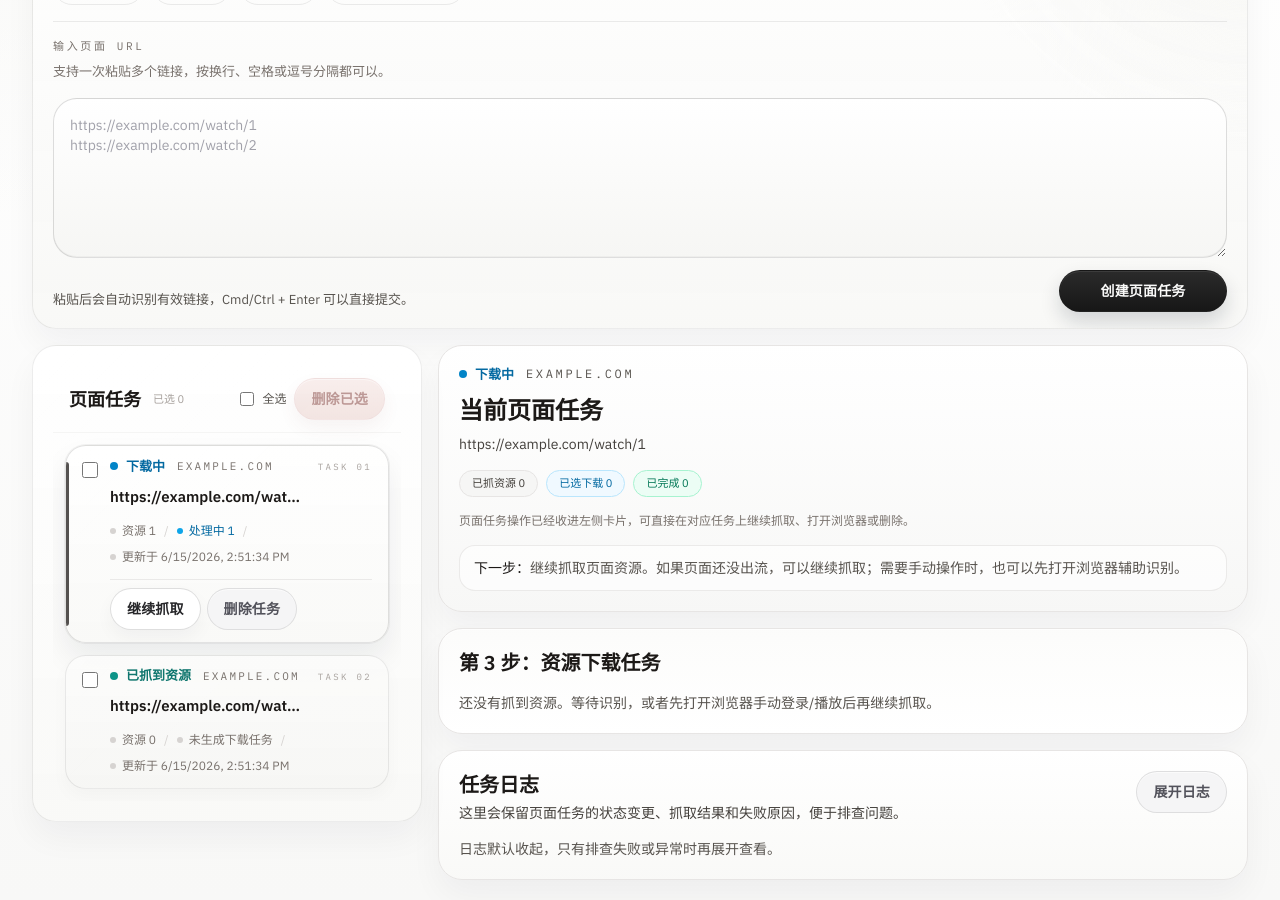
Test case: App › keeps updating download center progress after switching to another page task
(page scrolled)
Click the text "https://example.com/watch/2". click: (208, 706)
box: [110,694,306,718]
(page scrolled)
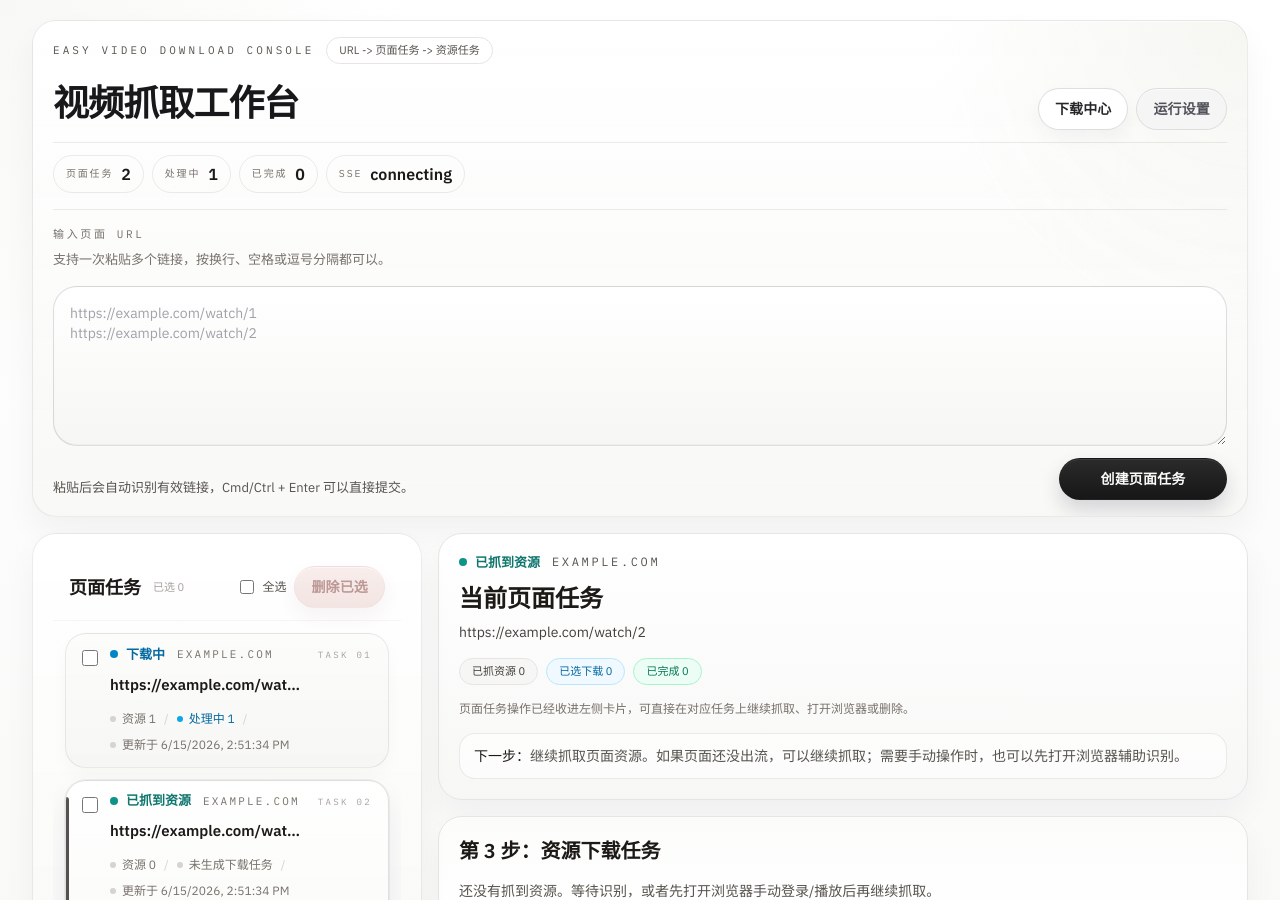
Click the button "下载中心". click: (1083, 108)
box: [1038,88,1128,130]
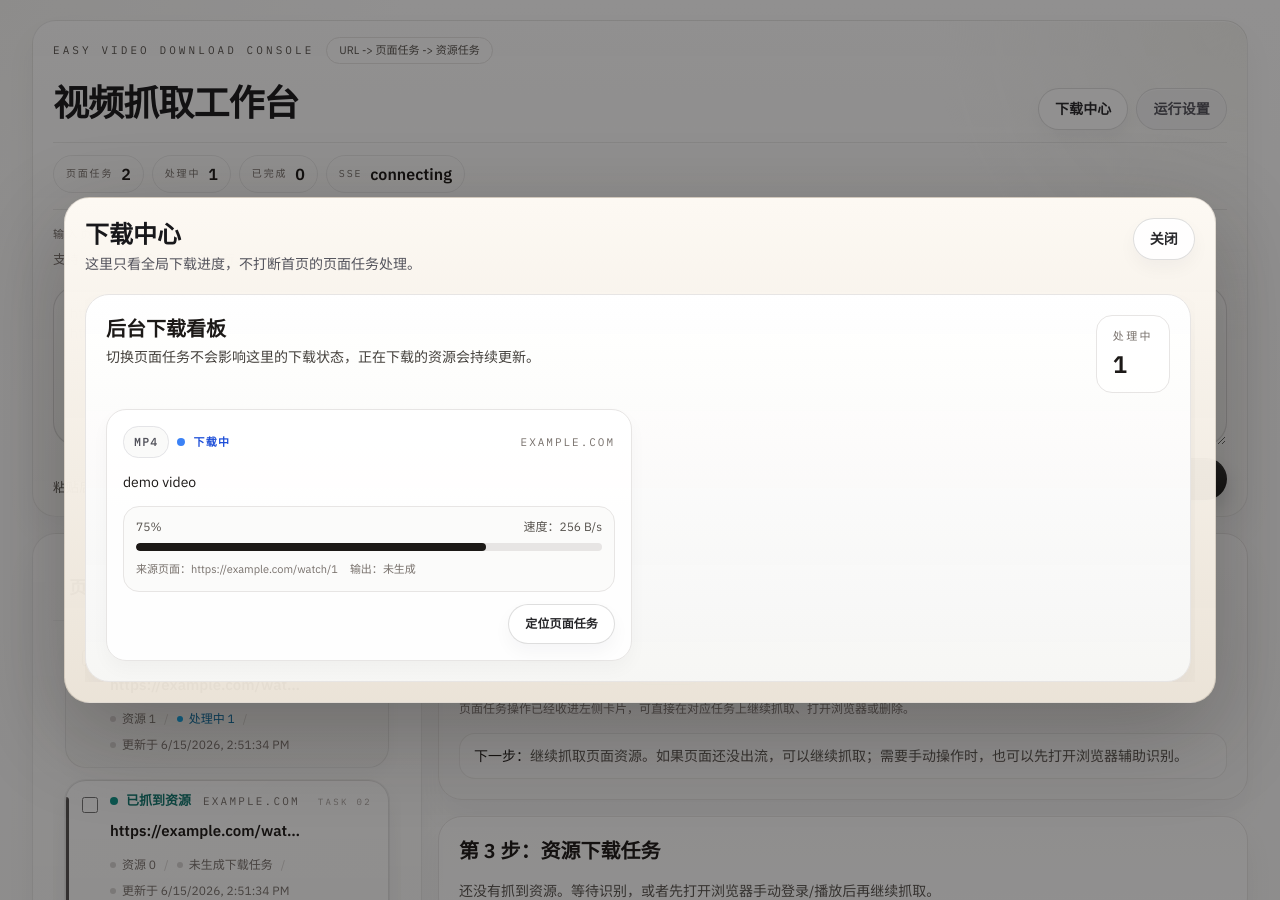
expect the text "75%" is shown: met, box [136,519,162,535]
